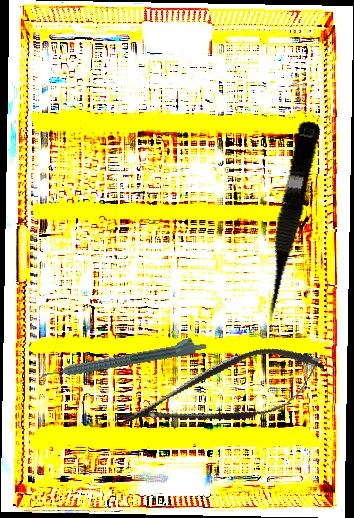Handpiece: (38, 333, 209, 382)
Micro Scissor: (110, 332, 333, 454), (253, 118, 322, 323)
